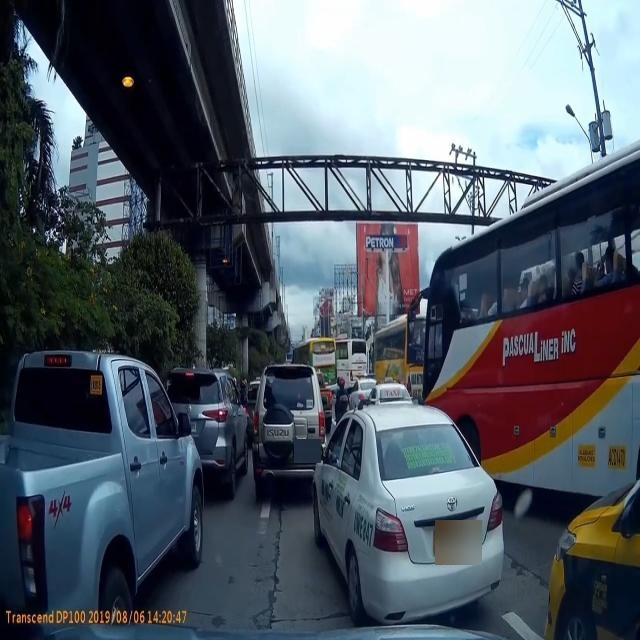bus: (425, 220, 640, 499), (328, 334, 370, 390)
car: (12, 350, 214, 628), (315, 383, 527, 617), (251, 365, 329, 519), (172, 352, 252, 502)
